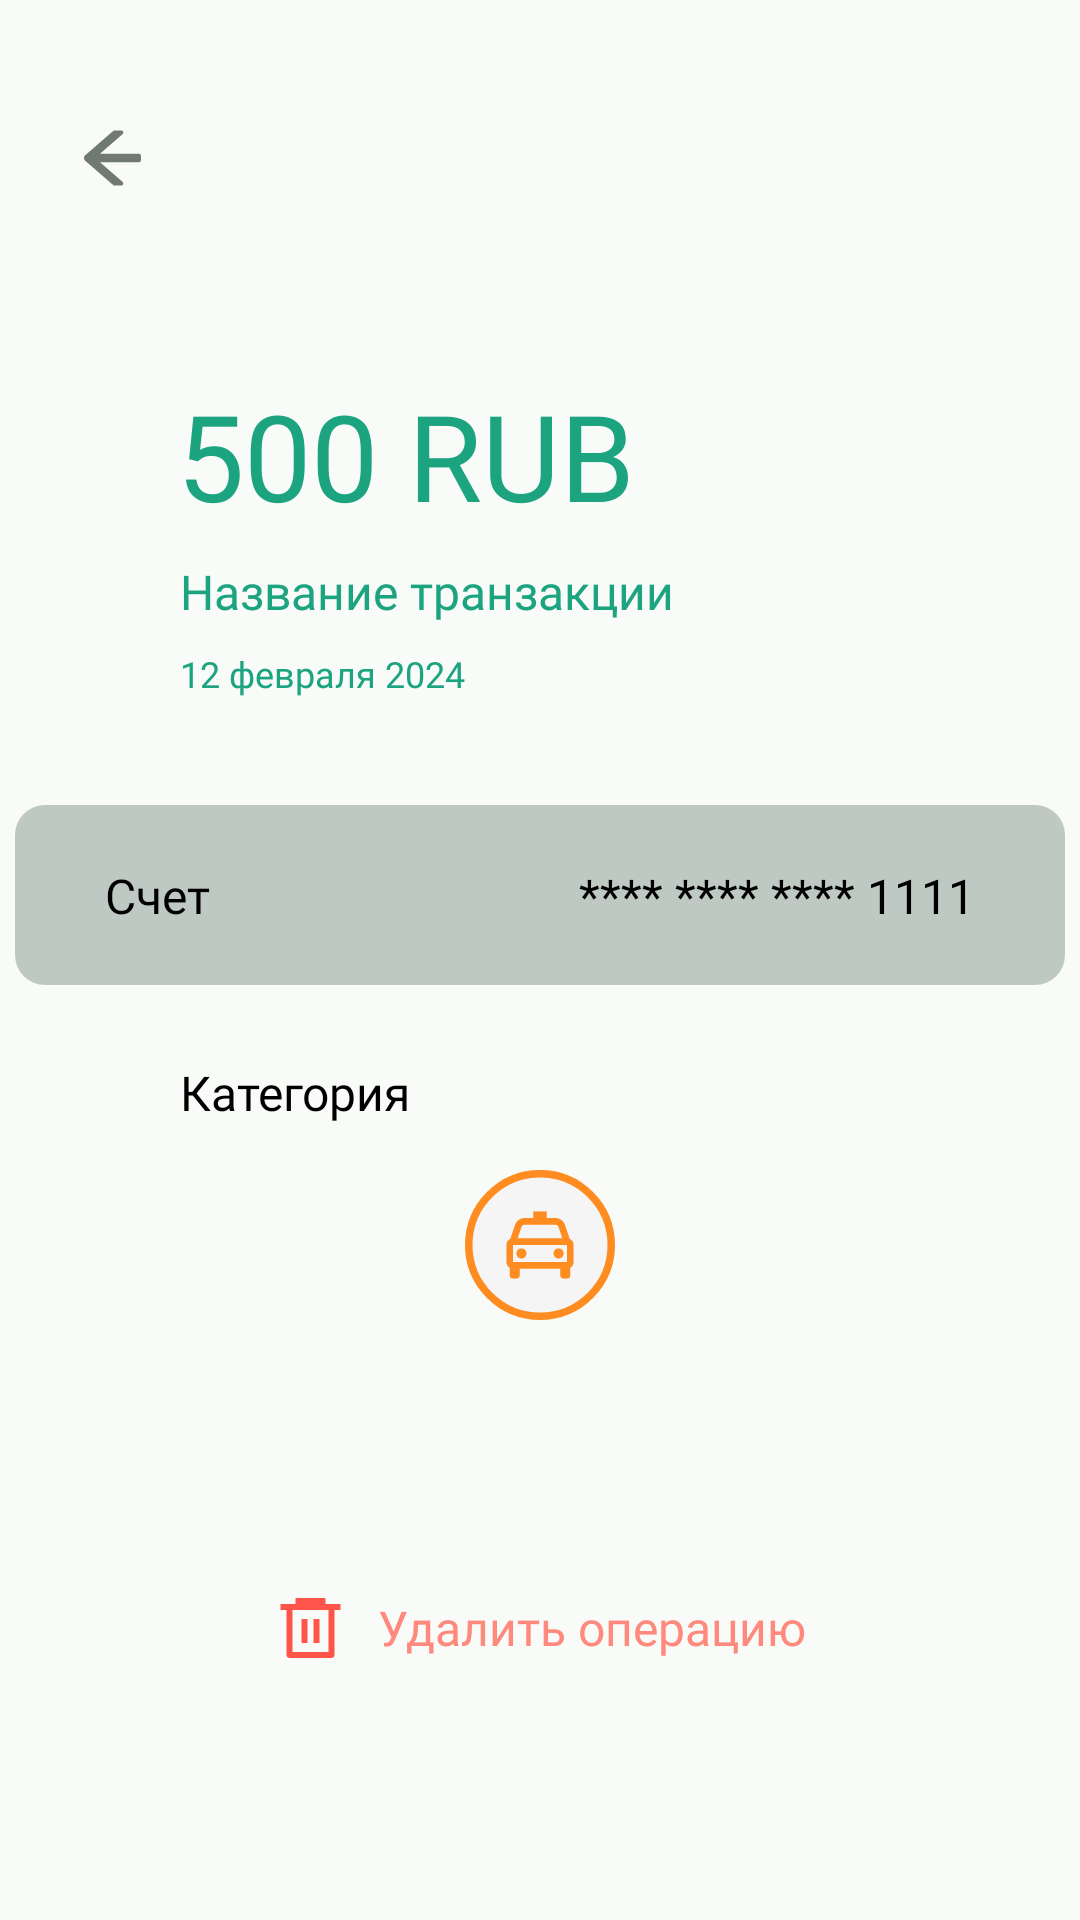

Where icons sit on this 1080×1920 app screen, as (x1,y1,x2,y2):
arrow left: (84,130,141,186)
bin: (280,1598,341,1658)
car circle: (465,1170,615,1320)
